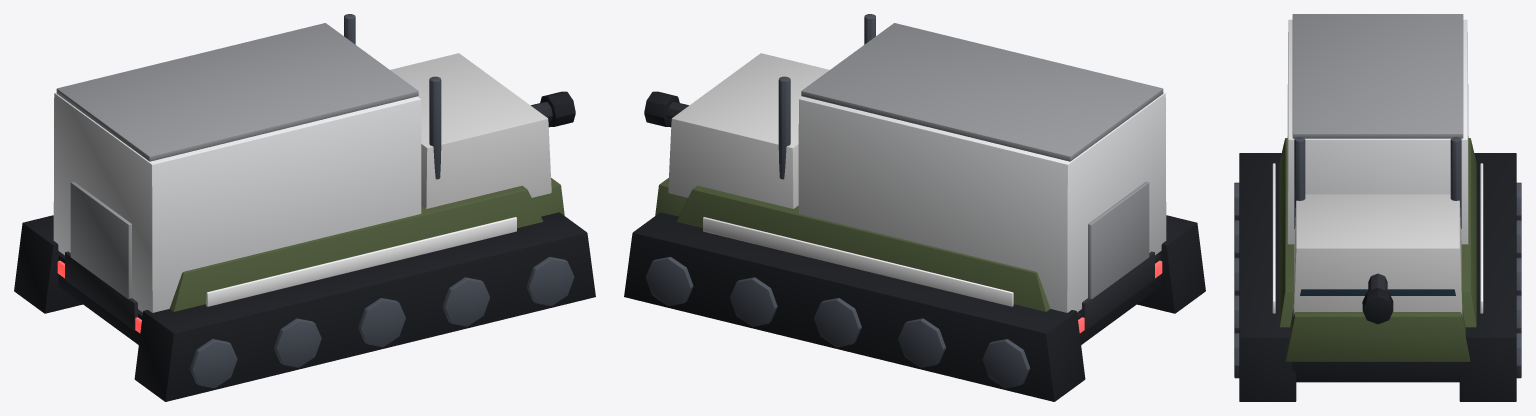
File: vehicles.glb
3 renders of one model, left to right at view 1: azimuth 30°, elevation 25°; view 2: azimuth 150°, elevation 25°; view 3: azimuth 270°, elevation 25°, orthographic. The views are drawn at different scales.
Visible parts, largest first — view 1: truck, tank, tank_Turret; view 2: truck, tank, tank_Turret; view 3: truck, tank, tank_Turret.
Boxes of the visible parts, x1,y1,x2,y2 form: truck: (53, 14, 551, 344); tank: (14, 178, 595, 401); tank_Turret: (531, 91, 575, 127); truck: (668, 14, 1166, 344); tank: (624, 178, 1205, 401); tank_Turret: (644, 91, 688, 127); truck: (1287, 14, 1468, 382); tank: (1234, 138, 1521, 401); tank_Turret: (1362, 273, 1393, 324).
Size of the model in its own units: 7.1 by 3.31 by 4.04.
